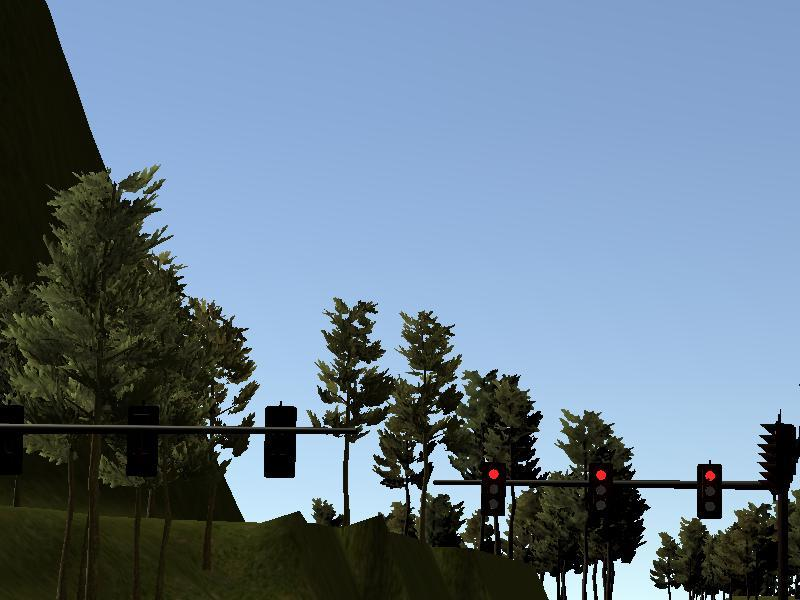Red: (698, 463, 722, 519), (588, 463, 612, 515), (484, 462, 506, 515)
